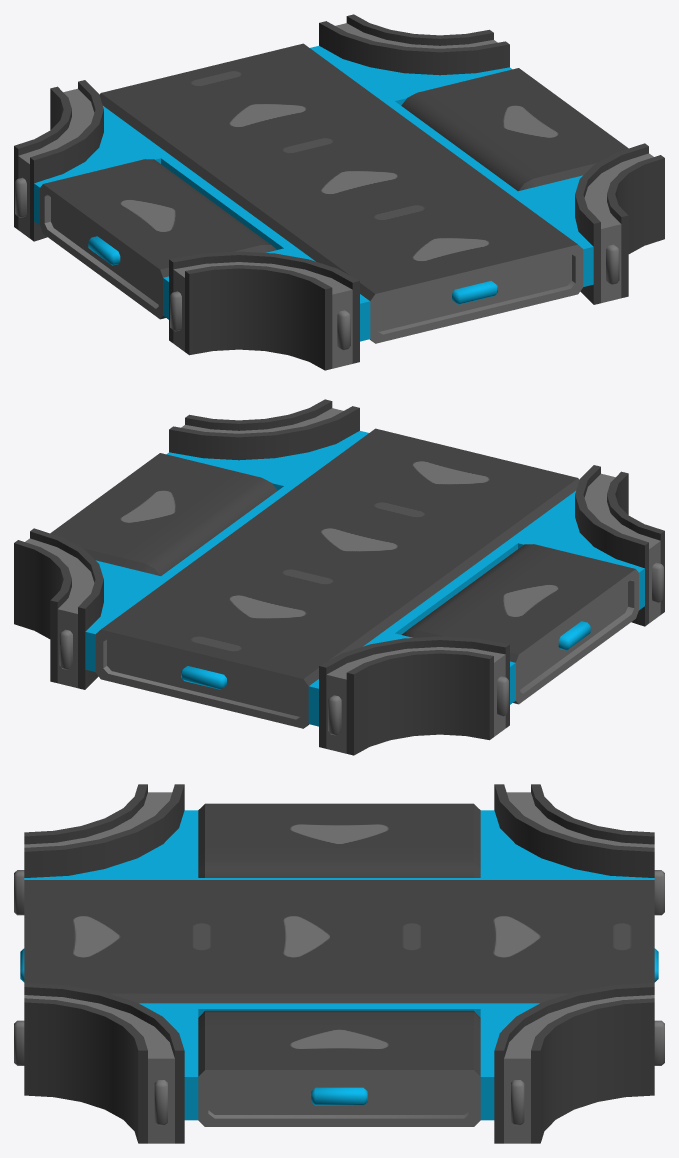
The model's file is Conveyor_Belt_1_Way_2I.fbx.
The picture shows the model from 3 angles, top to bottom: view 1: azimuth 30°, elevation 25°; view 2: azimuth 150°, elevation 25°; view 3: azimuth 270°, elevation 25°; orthographic projection. The views are drawn at different scales.
Parts seen in each view (by area): view 1: Conveyor_Belt_1_Way_2I; view 2: Conveyor_Belt_1_Way_2I; view 3: Conveyor_Belt_1_Way_2I.
Part boxes in pixels (x1=…): Conveyor_Belt_1_Way_2I: x1=14, y1=14, x2=664, y2=370; Conveyor_Belt_1_Way_2I: x1=14, y1=399, x2=664, y2=755; Conveyor_Belt_1_Way_2I: x1=14, y1=784, x2=664, y2=1143.
Bounding box in the file's own units: 207 × 32.6 × 207.
